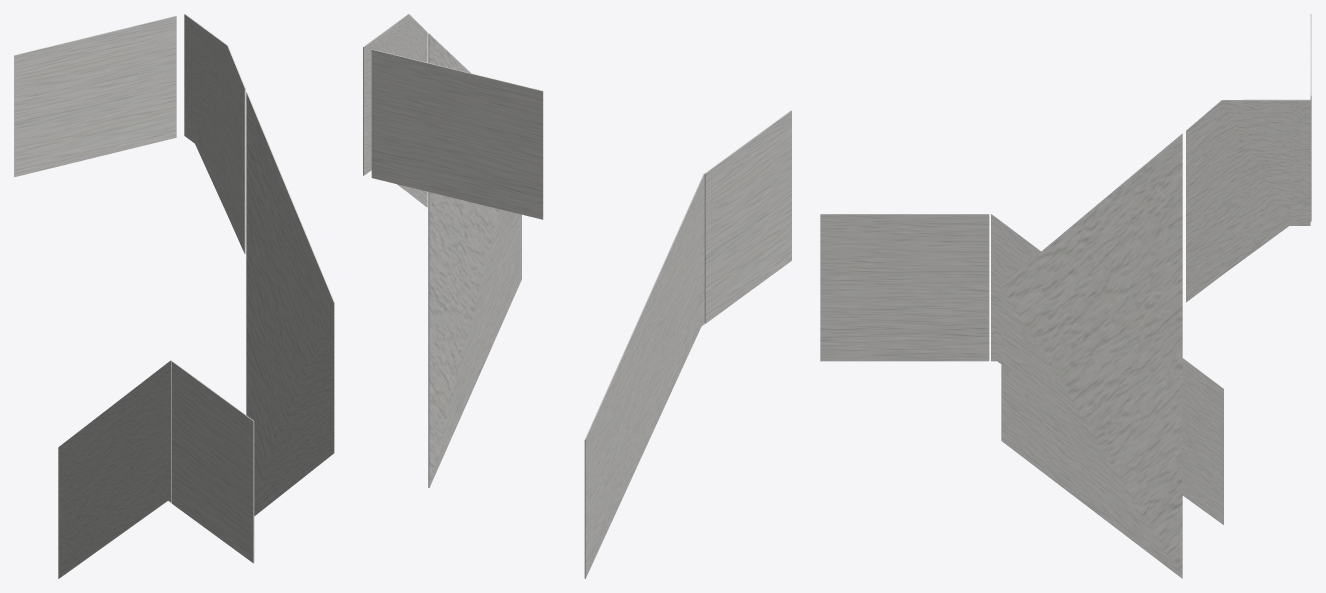
The model's file is cristal_temp.fbx.
3 renders of one model, left to right at view 1: azimuth 30°, elevation 25°; view 2: azimuth 150°, elevation 25°; view 3: azimuth 270°, elevation 25°, orthographic. The views are drawn at different scales.
Parts seen in each view (by area): view 1: glass; view 2: glass; view 3: glass.
Boxes of the visible parts, x1,y1,x2,y2 form: glass: [14, 14, 334, 578]; glass: [363, 14, 791, 578]; glass: [820, 14, 1311, 578].
Size of the model in its own units: 126 by 348 by 304.
